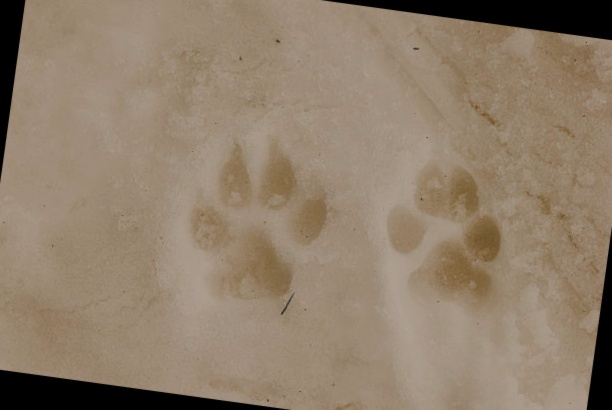loup: (152, 112, 360, 329), (360, 141, 543, 353)
